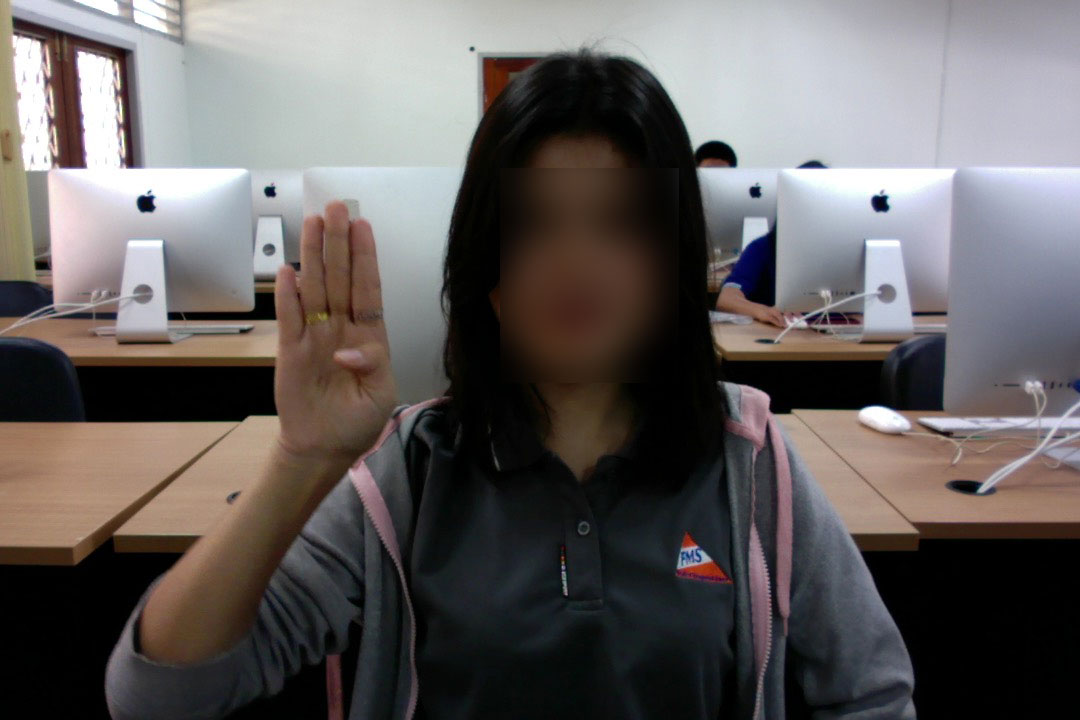bor: (265, 194, 406, 485)
